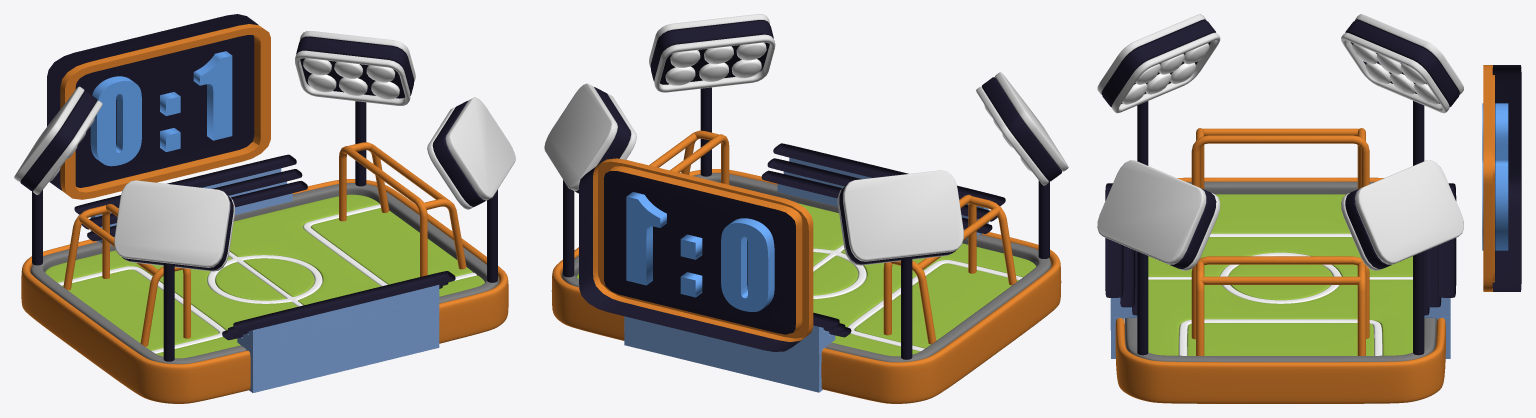
3 renders of one model, left to right at view 1: azimuth 30°, elevation 25°; view 2: azimuth 150°, elevation 25°; view 3: azimuth 270°, elevation 25°, orthographic. The views are drawn at different scales.
Visible parts, largest first — view 1: Plane, Retopo_Plane.007, Plane.009, Plane.010, Plane.003, Plane.006, Text, Vert.003, Plane.004, Plane.002, Plane.005, Plane.001; view 2: Retopo_Plane.007, Plane.006, Plane.010, Plane.009, Plane, Text, Plane.003, Vert.003, Plane.004, Plane.002, Plane.005, Plane.001; view 3: Plane, Plane.010, Plane.009, Plane.006, Vert.003, Retopo_Plane.007, Plane.002, Plane.004, Plane.005, Plane.001, Text, Plane.003.
Boxes of the visible parts, bbox=[...] form: Plane: bbox=[45, 194, 484, 358]; Retopo_Plane.007: bbox=[47, 14, 270, 199]; Plane.009: bbox=[21, 179, 508, 403]; Plane.010: bbox=[295, 31, 515, 209]; Plane.003: bbox=[90, 168, 439, 392]; Plane.006: bbox=[14, 86, 234, 271]; Text: bbox=[90, 51, 232, 166]; Vert.003: bbox=[63, 142, 466, 346]; Plane.004: bbox=[74, 154, 455, 340]; Plane.002: bbox=[30, 183, 499, 364]; Plane.005: bbox=[32, 101, 497, 361]; Plane.001: bbox=[58, 204, 476, 353]; Retopo_Plane.007: bbox=[579, 158, 813, 351]; Plane.006: bbox=[837, 72, 1068, 265]; Plane.010: bbox=[544, 14, 775, 193]; Plane.009: bbox=[551, 169, 1061, 403]; Plane: bbox=[576, 203, 1036, 356]; Text: bbox=[626, 192, 774, 311]; Plane.003: bbox=[624, 157, 988, 392]; Vert.003: bbox=[649, 130, 1016, 344]; Plane.004: bbox=[761, 143, 1005, 337]; Plane.002: bbox=[561, 173, 1051, 362]; Plane.005: bbox=[563, 87, 1049, 359]; Plane.001: bbox=[813, 244, 1022, 351]; Plane: bbox=[1148, 194, 1412, 355]; Plane.010: bbox=[1097, 160, 1463, 270]; Plane.009: bbox=[1115, 177, 1445, 403]; Plane.006: bbox=[1097, 14, 1463, 113]; Vert.003: bbox=[1191, 128, 1369, 355]; Retopo_Plane.007: bbox=[1483, 65, 1521, 291]; Plane.002: bbox=[1125, 181, 1436, 362]; Plane.004: bbox=[1105, 183, 1456, 315]; Plane.005: bbox=[1137, 101, 1424, 355]; Plane.001: bbox=[1148, 233, 1412, 355]; Text: bbox=[1482, 103, 1508, 250]; Plane.003: bbox=[1110, 297, 1450, 358].
Bounding box in the file's own units: 6.26 × 3.01 × 5.51.
